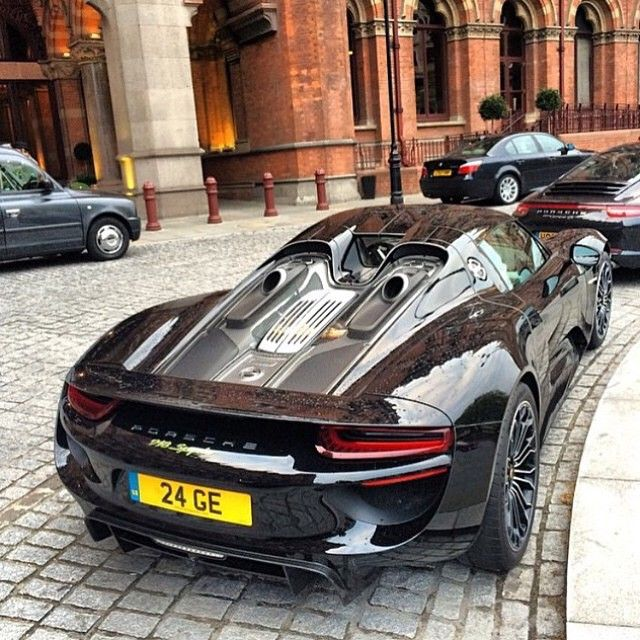car: (27, 202, 627, 573), (510, 134, 638, 294), (0, 142, 143, 265), (412, 121, 601, 200)
